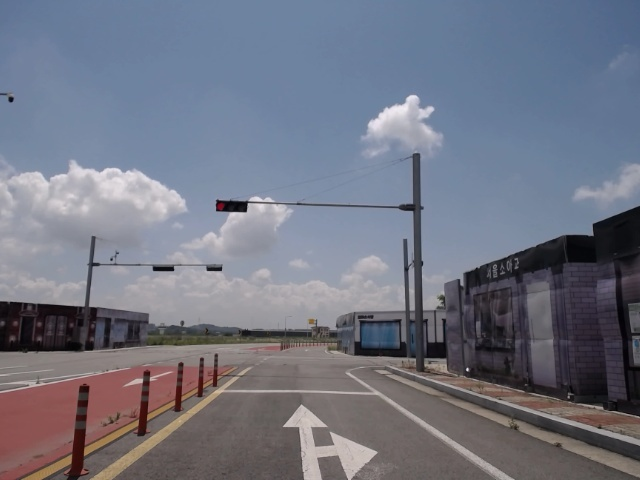red_3: (214, 199, 249, 214)
